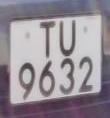2: (77, 52, 97, 98)
3: (58, 56, 78, 100)
6: (37, 58, 59, 102)
9: (15, 56, 39, 105)
T: (36, 19, 59, 63)
U: (57, 17, 80, 60)
